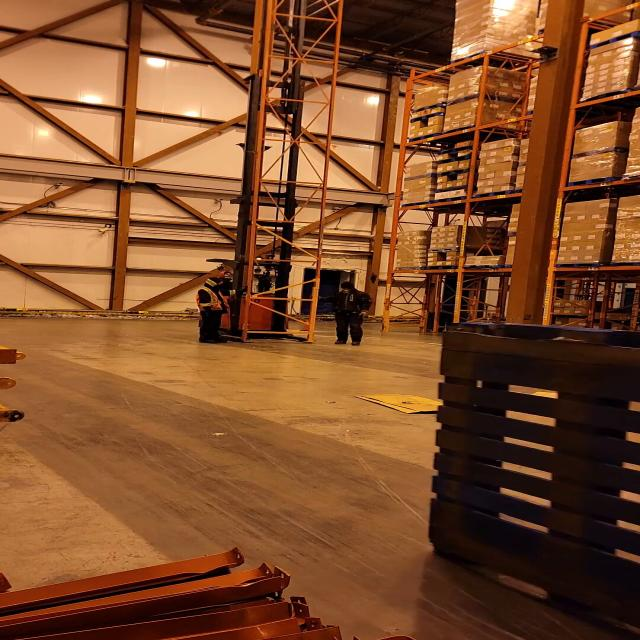forklift: (196, 193, 320, 346)
human: (313, 279, 376, 350), (190, 269, 237, 347), (216, 269, 246, 293)
objectofinterest: (421, 317, 640, 630), (246, 8, 326, 346), (357, 388, 466, 415)
